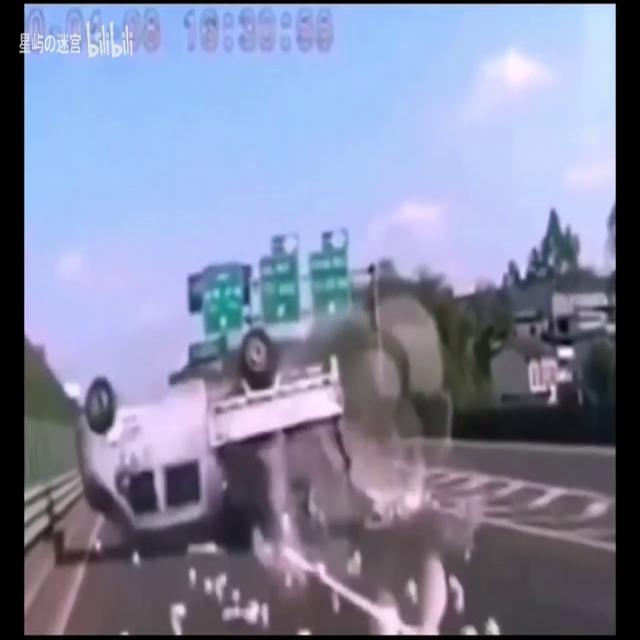single accident: (42, 282, 427, 623)
